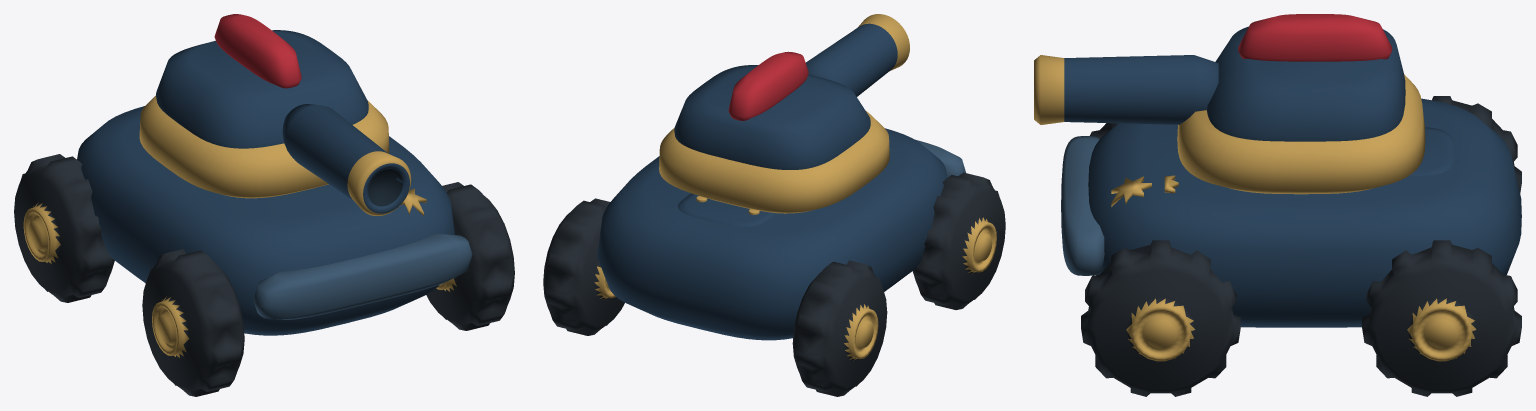
File: TOY_HAZEL.hi.glb
The picture shows the model from 3 angles, left to right: view 1: azimuth 30°, elevation 25°; view 2: azimuth 150°, elevation 25°; view 3: azimuth 270°, elevation 25°; orthographic projection. The views are drawn at different scales.
Visible parts, largest first — view 1: Body, TurretYaw, WheelsFront, WheelsRear, BarrelRecoil; view 2: Body, TurretYaw, WheelsRear, WheelsFront, BarrelRecoil; view 3: Body, TurretYaw, WheelsRear, WheelsFront, BarrelRecoil.
Boxes of the visible parts, x1=… form: Body: x1=77, y1=106, x2=472, y2=335; TurretYaw: x1=139, y1=14, x2=389, y2=198; WheelsFront: x1=142, y1=182, x2=514, y2=396; WheelsRear: x1=14, y1=154, x2=114, y2=302; BarrelRecoil: x1=282, y1=104, x2=411, y2=215; Body: x1=597, y1=128, x2=965, y2=340; TurretYaw: x1=659, y1=51, x2=889, y2=213; WheelsRear: x1=543, y1=198, x2=887, y2=396; WheelsFront: x1=912, y1=172, x2=1005, y2=309; BarrelRecoil: x1=806, y1=14, x2=909, y2=96; Body: x1=1061, y1=98, x2=1521, y2=327; TurretYaw: x1=1177, y1=14, x2=1425, y2=194; WheelsRear: x1=1362, y1=96, x2=1521, y2=396; WheelsFront: x1=1081, y1=123, x2=1240, y2=396; BarrelRecoil: x1=1034, y1=55, x2=1218, y2=124.
Size of the model in its own units: 0.755 by 0.6 by 0.885.
